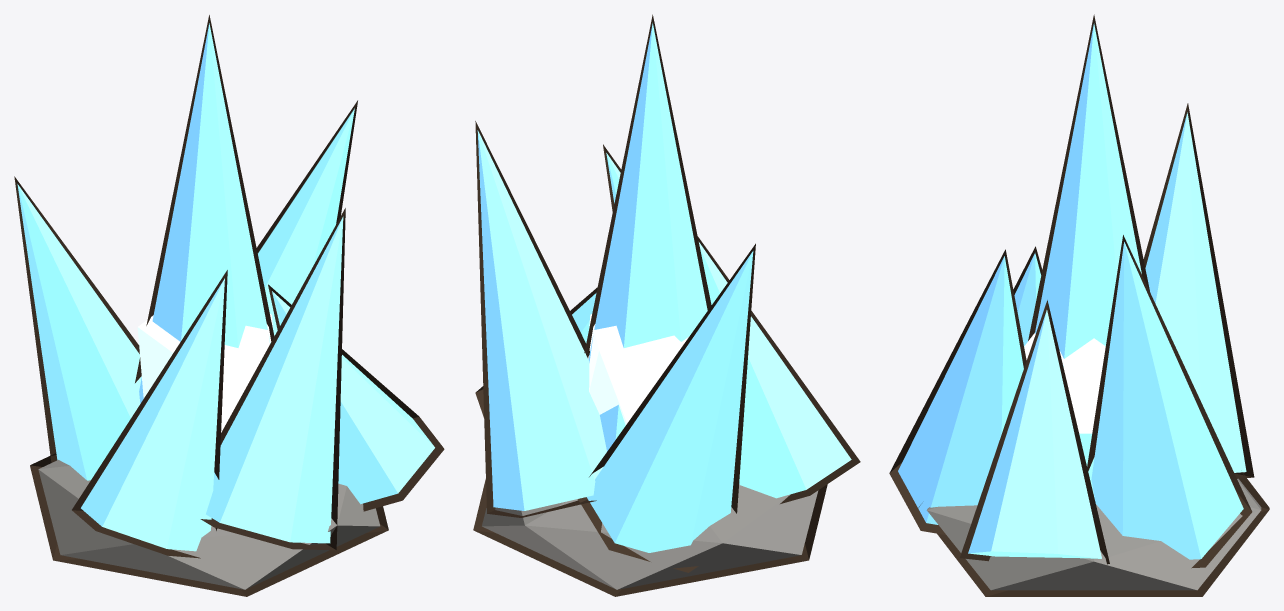
File: crystal_blue.glb
3 views of the same model, side by side, from view 1: azimuth 30°, elevation 25°; view 2: azimuth 150°, elevation 25°; view 3: azimuth 270°, elevation 25° (orthographic). The views are drawn at different scales.
Visible parts, largest first — view 1: Shard3, Shard4, Shard0, Shard2, Base, Shard5, Shard1, Core Glow; view 2: Shard1, Shard2, Shard0, Base, Shard4, Core Glow, Shard5, Shard3; view 3: Shard1, Shard5, Shard0, Shard3, Shard2, Base, Core Glow, Shard4.
Boxes of the visible parts, x1=… form: Shard3: x1=200, y1=208, x2=345, y2=550; Shard4: x1=72, y1=270, x2=227, y2=558; Shard0: x1=135, y1=15, x2=274, y2=403; Shard2: x1=14, y1=176, x2=141, y2=480; Base: x1=30, y1=453, x2=388, y2=596; Shard5: x1=268, y1=284, x2=444, y2=511; Shard1: x1=256, y1=100, x2=357, y2=335; Core Glow: x1=137, y1=314, x2=272, y2=432; Shard1: x1=475, y1=121, x2=606, y2=517; Shard2: x1=578, y1=243, x2=755, y2=572; Shard0: x1=584, y1=14, x2=711, y2=451; Base: x1=473, y1=479, x2=827, y2=596; Shard4: x1=697, y1=236, x2=860, y2=503; Core Glow: x1=588, y1=314, x2=689, y2=425; Shard5: x1=475, y1=287, x2=597, y2=418; Shard3: x1=603, y1=144, x2=621, y2=211; Shard1: x1=1087, y1=235, x2=1252, y2=568; Shard5: x1=960, y1=300, x2=1109, y2=564; Shard0: x1=1028, y1=14, x2=1149, y2=497; Shard3: x1=889, y1=249, x2=1026, y2=534; Shard2: x1=1143, y1=103, x2=1254, y2=478; Base: x1=918, y1=472, x2=1269, y2=596; Core Glow: x1=1024, y1=333, x2=1105, y2=433; Shard4: x1=1013, y1=246, x2=1042, y2=346.
Size of the model in its own units: 0.1523 by 0.2212 by 0.1383.
